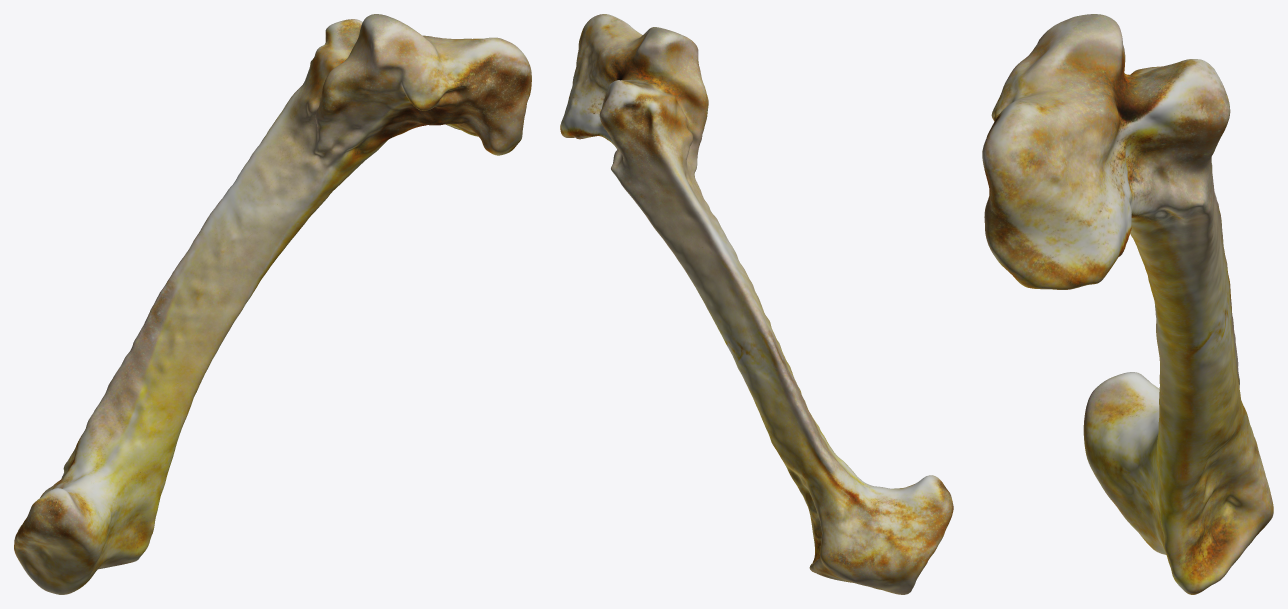
File: 430830a05de0_femur_bone__ancient.fbx
The picture shows the model from 3 angles, left to right: view 1: azimuth 30°, elevation 25°; view 2: azimuth 150°, elevation 25°; view 3: azimuth 270°, elevation 25°; orthographic projection. The views are drawn at different scales.
Visible parts, largest first — view 1: high_poly; view 2: high_poly; view 3: high_poly.
Boxes of the visible parts, x1=… form: high_poly: x1=14, y1=14, x2=531, y2=594; high_poly: x1=560, y1=14, x2=953, y2=594; high_poly: x1=982, y1=14, x2=1273, y2=594.
Bounding box in the file's own units: 90.5 × 100 × 36.34.
